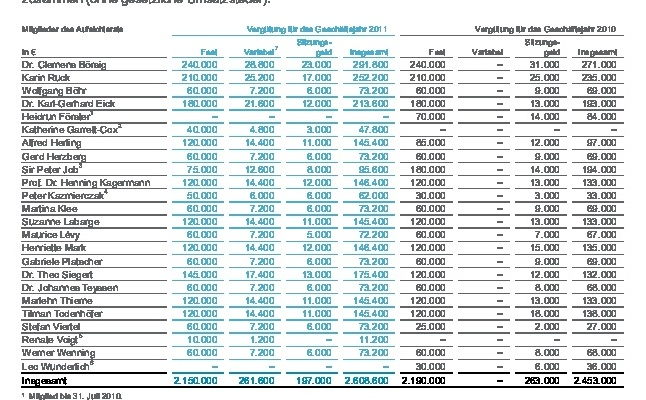table: (0, 0, 646, 400)
